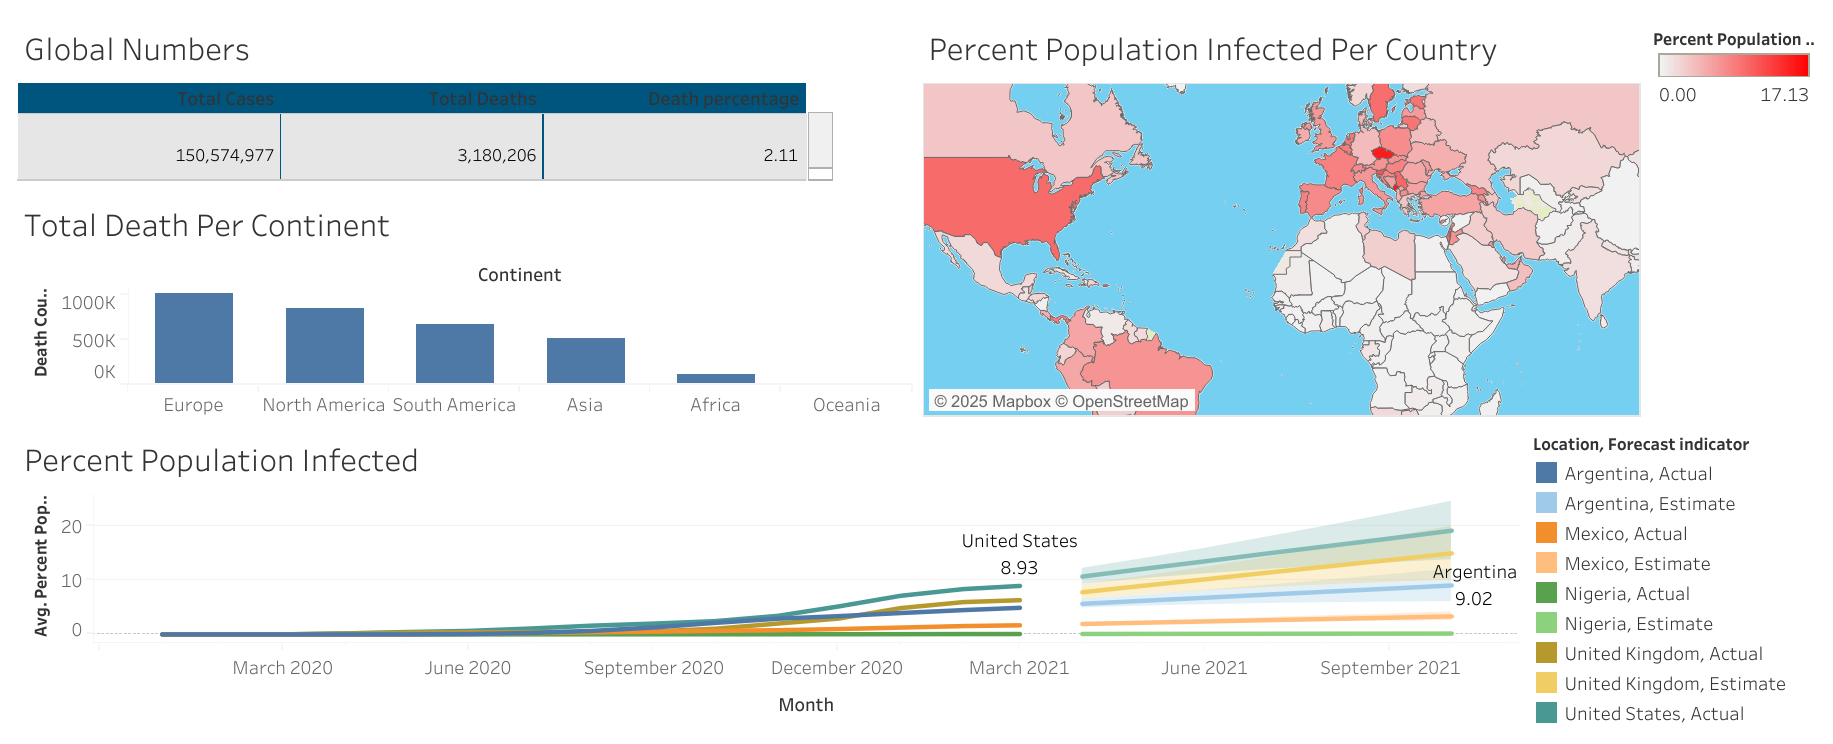

The page's visual inventory and layout, read from the dashboard file:
{"tool":"tableau","page":{"name":"Dashboard 1","canvas":[1000,1000],"units":"permille","ordinal":0},"visuals":[{"type":"worksheet","title":"Sheet 1","mark":"Automatic","box":[4.8,10.6,495.2,238.8]},{"type":"worksheet","title":"Sheet 3","mark":"Automatic","box":[500,10.6,399.1,556.7]},{"type":"legend","title":"Sheet 3","param":"[federated.095lh291pc3ppd16z3pbp0fv2u0t].[sum:percentpopulationinfected:qk]","box":[899.1,10.6,96.1,556.7]},{"type":"worksheet","title":"Sheet 2","mark":"Automatic","rows":["totaldeathcount"],"cols":["location"],"box":[4.8,249.3,495.2,317.9]},{"type":"worksheet","title":"Sheet 4","mark":"Automatic","rows":["percentpopulationinfected"],"cols":["date"],"box":[4.8,567.3,827.6,422.2]},{"type":"legend","title":"Sheet 4","param":"[federated.0n7a3eu1ug1b1d19qwtu61p9qrwz].[none:location:nk]\n[federated.0n7a3eu1u","box":[832.4,567.3,162.8,422.2]}]}

Visuals, with their boxes on the dashboard's canvas, which has no fixed pixel size, in thousandths of its width and height (x1, y1, x2, y2). These are canvas units, not pixel positions in the 1833x744 screenshot, which may show the page scaled, cropped or inside an application window:
"Sheet 1" worksheet: rect(5, 11, 500, 249)
"Sheet 3" worksheet: rect(500, 11, 899, 567)
"Sheet 3" legend: rect(899, 11, 995, 567)
"Sheet 2" worksheet: rect(5, 249, 500, 567)
"Sheet 4" worksheet: rect(5, 567, 832, 990)
"Sheet 4" legend: rect(832, 567, 995, 990)
